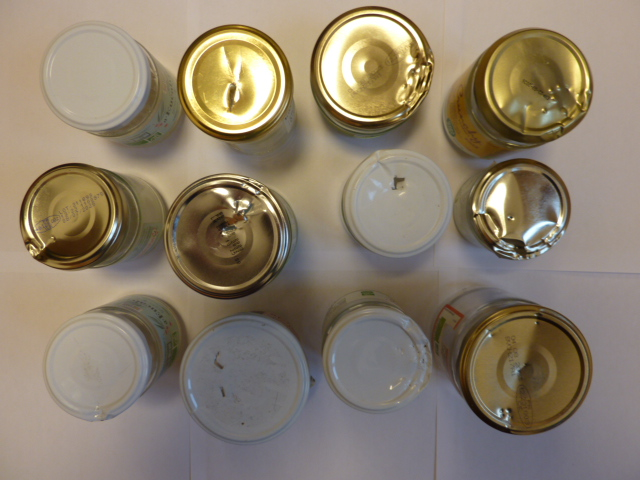damaged: (462, 306, 594, 434), (181, 314, 309, 444), (164, 171, 287, 302), (480, 26, 595, 144), (179, 25, 291, 138), (43, 312, 153, 424), (322, 306, 433, 414), (17, 162, 125, 273), (470, 158, 572, 264)
